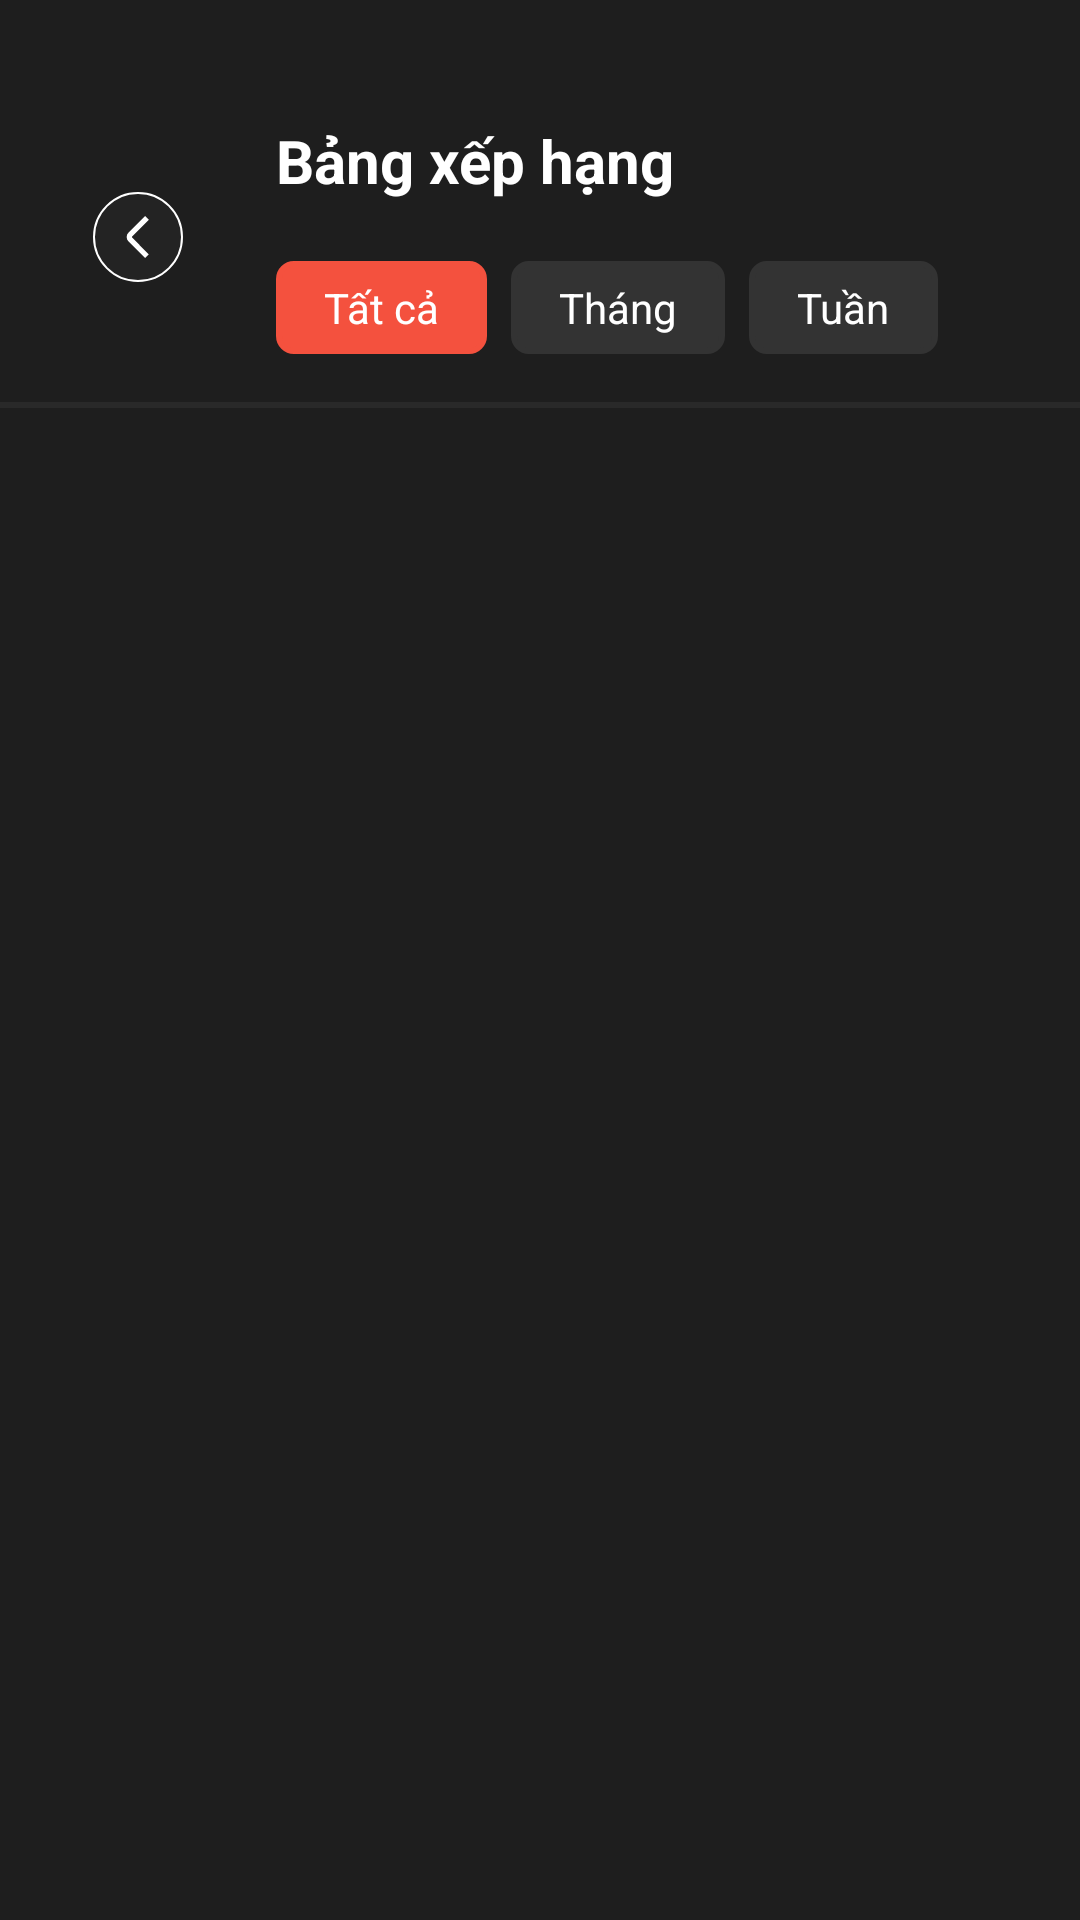

Named icons in this screenshot (1080x1920) and their bounding boxes, box=[x1, y1, x2, y2]:
back: box=[93, 192, 183, 282]
